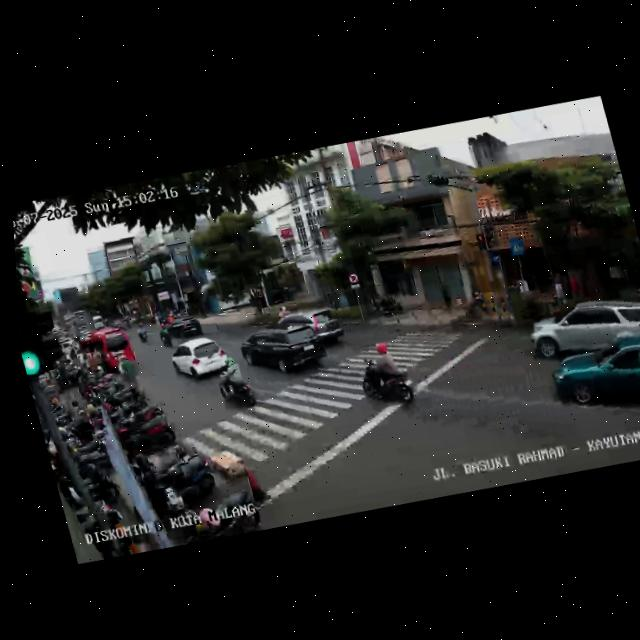car: (544, 328, 640, 435), (521, 284, 640, 360), (235, 310, 342, 384), (275, 302, 348, 355), (166, 332, 234, 387), (77, 323, 139, 380), (157, 312, 205, 344)
motorcycle: (351, 338, 419, 414), (210, 348, 259, 414), (134, 320, 150, 344)
